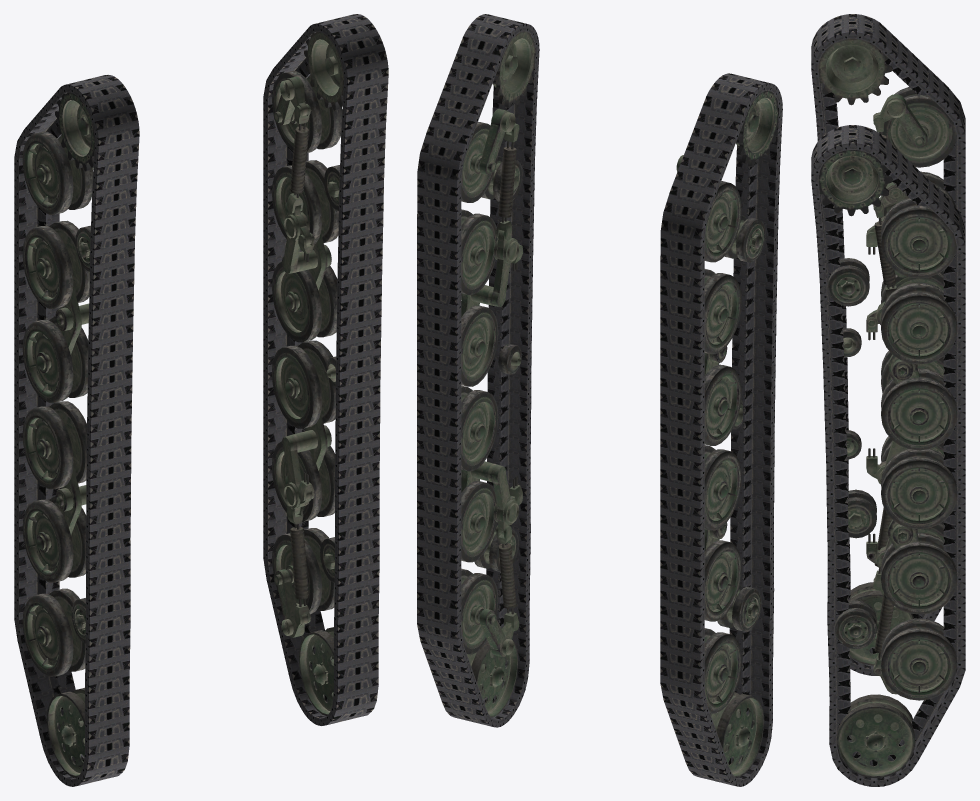
File: Chassis.glb
3 views of the same model, side by side, from view 1: azimuth 30°, elevation 25°; view 2: azimuth 150°, elevation 25°; view 3: azimuth 270°, elevation 25° (orthographic). The views are drawn at different scales.
Visible parts, largest first — view 1: set_3_group_0, set_2_group_0, set_0_group_0, set_1_group_0; view 2: set_3_group_0, set_2_group_0, set_0_group_0, set_1_group_0; view 3: set_0_group_0, set_2_group_0, set_1_group_0, set_3_group_0.
Part boxes in pixels (x1,y1,x2,y2): set_3_group_0: (14,74,139,786); set_2_group_0: (263,14,388,725); set_0_group_0: (272,31,343,715); set_1_group_0: (22,92,94,777); set_3_group_0: (660,73,782,786); set_2_group_0: (417,14,539,727); set_0_group_0: (461,31,535,717); set_1_group_0: (676,90,778,777); set_0_group_0: (818,150,957,777); set_2_group_0: (811,125,965,786); set_1_group_0: (818,38,956,665); set_3_group_0: (811,14,965,675).
Bounding box in the file's own units: 2.38 × 5.46 × 1.19.
Materials: 4 (4 with a texture image).
